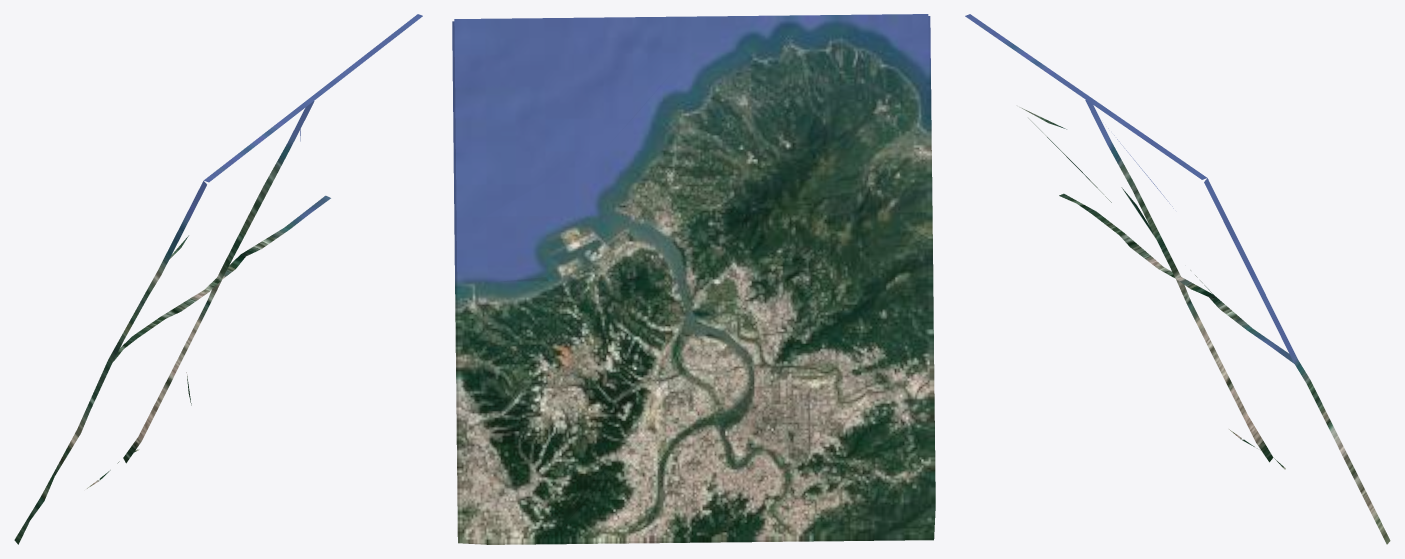
3 renders of one model, left to right at view 1: azimuth 30°, elevation 25°; view 2: azimuth 150°, elevation 25°; view 3: azimuth 270°, elevation 25°, orthographic. The views are drawn at different scales.
Size of the model in its own units: 39634 by 35823 by 33351.
1 material, 1 textured.
